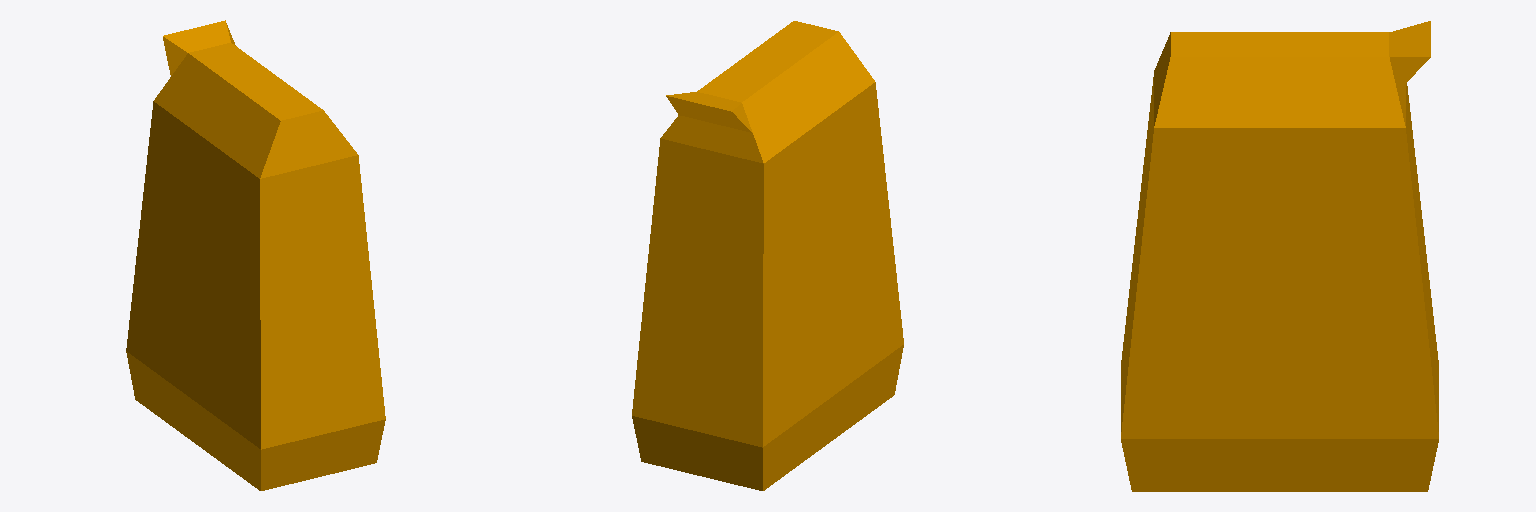
URDF robot description (corn_flake_bag):
<?xml version="1.0"?>
<robot name="corn_flake_bag">
  <link name="bag">
    <inertial>
        <origin rpy="0 0 0" xyz="0 0 0"/>
        <mass value="0.05"/>
        <inertia ixx="3.6e-4" ixy="0" ixz="0" iyy="3.6e-4" iyz="0" izz="3.6e-4"/>
    </inertial>
    <visual>
      <geometry>
        <mesh filename="CornFlakesBag.obj"/>
      </geometry>
    </visual>
    <collision>
      <geometry>
        <mesh filename="CornFlakesBag.obj"/>
      </geometry>
    </collision>
  </link>
</robot>

--- Facts derived from the render (not from the file) ---
Views: 3 orthographic renders of the robot side by side, from view 1: azimuth 30°, elevation 25°; view 2: azimuth 150°, elevation 25°; view 3: azimuth 270°, elevation 25°.
Robot: corn_flake_bag — 1 links, 0 joints (none); root link bag; default pose: every joint at zero.
Links seen in each view (by area): view 1: bag; view 2: bag; view 3: bag.
Boxes of the visible links, <box> form: bag: <box>126,20,385,490</box>; bag: <box>632,21,903,490</box>; bag: <box>1121,21,1438,491</box>.
Size in the robot's own frame: 0.1101 by 0.2059 by 0.2999 metres.
1 mesh visuals loaded from 1 distinct referenced files (1 OBJ).
